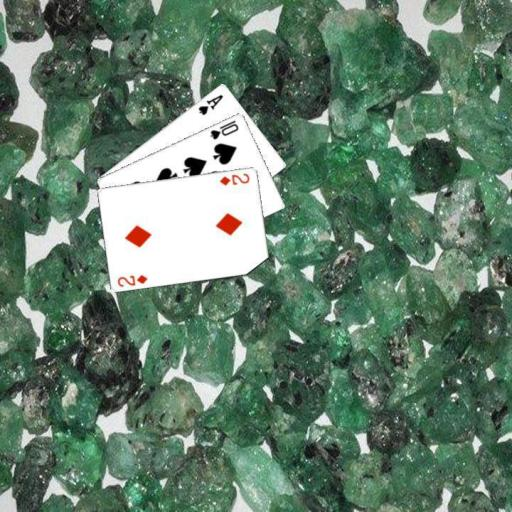card-corner: (207, 116, 240, 140), (195, 91, 225, 116), (114, 271, 148, 288), (217, 170, 251, 186)
